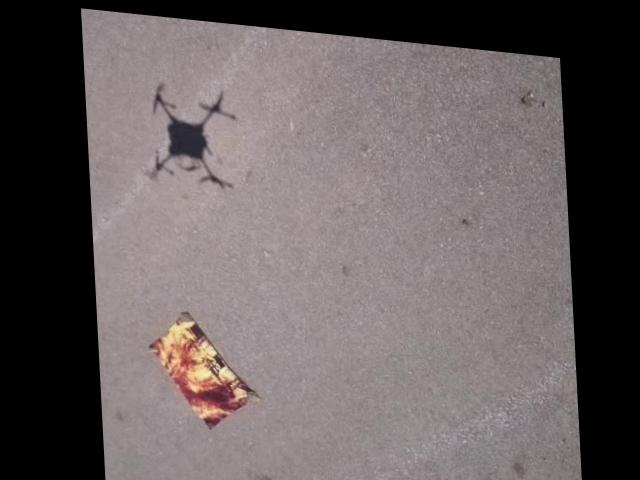fire-poster: (140, 302, 259, 432)
